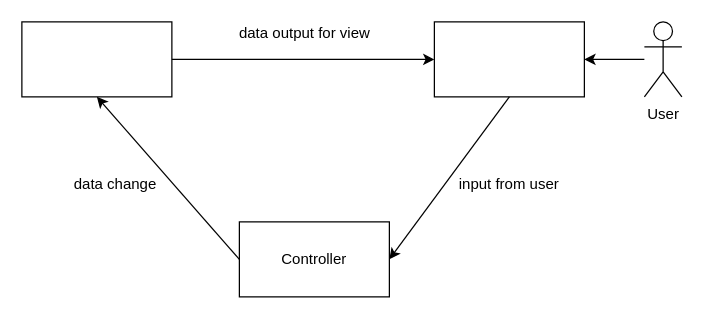
The diagram is 704 pixels wide and 319 high, and some of its shapes have lost their labels. Each missing label, with the centre of its shape:
"Model" belongs at [96,59].
"View" belongs at [508,59].
